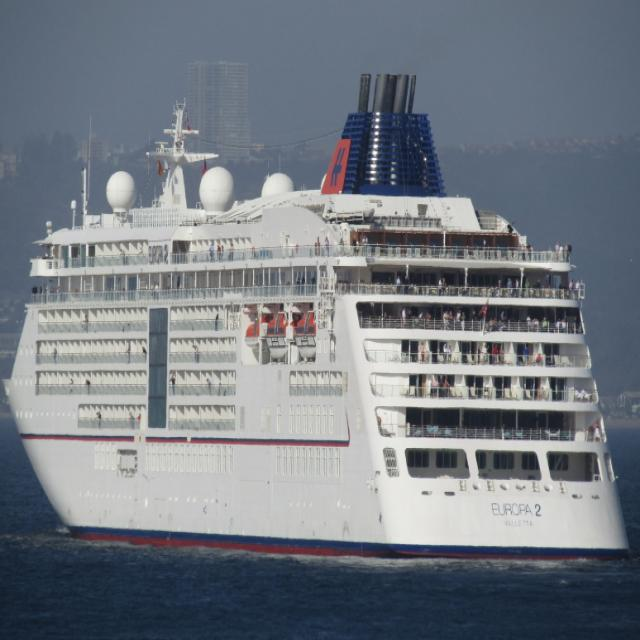cruises: (1, 70, 633, 570)
